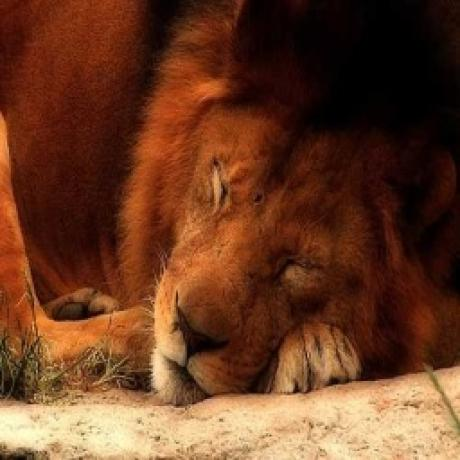Lion: (0, 0, 460, 410)
